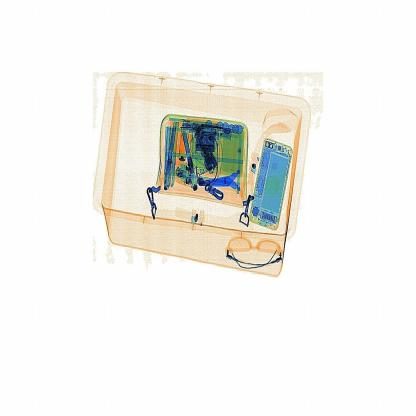gun: (199, 161, 262, 214)
